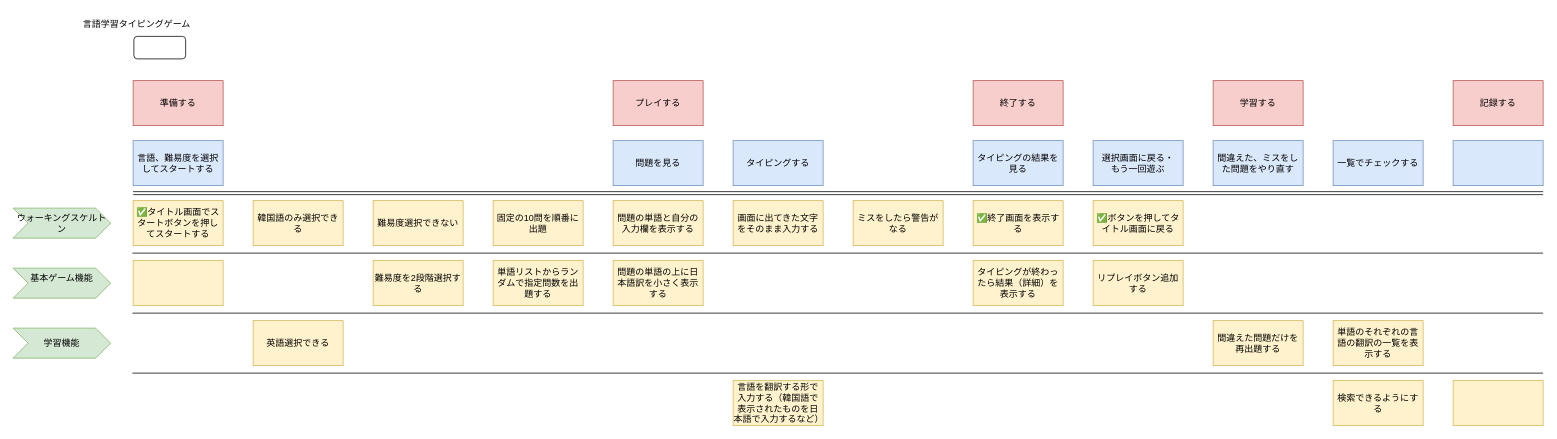
The diagram is 1557 pixels wide and 439 high, and some of its shapes have lost their labels. The shapes that lost their labels are listed below. From the top down, each one's centre as x and y in pixels, then its label:
the point at 159,47: 語学学習者
the point at 1497,163: 日数の連続記録をつける
the point at 177,283: 選択肢から選んでからスタートする
the point at 1497,403: 24時間のうちに取り組めたら連続記録が増えるようにする
